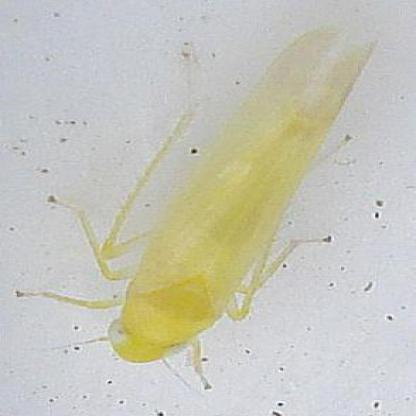green-leafhopper: (101, 29, 371, 366)
